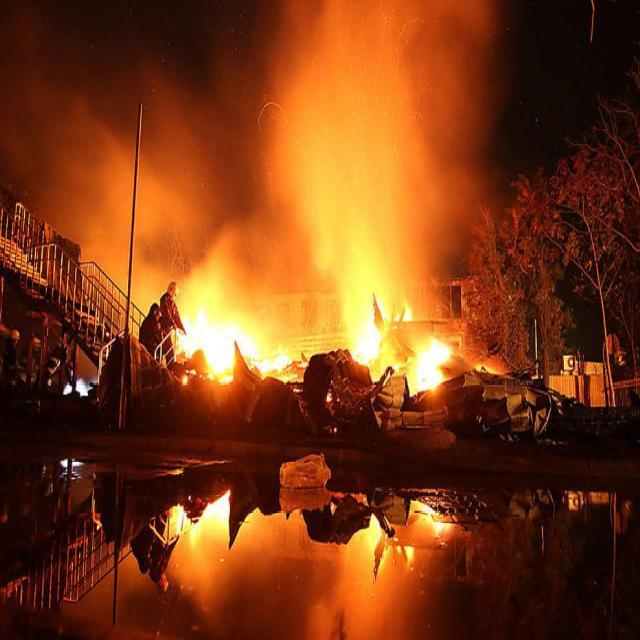Fire: (362, 281, 482, 402), (170, 306, 302, 396)
Smoke: (4, 0, 254, 284), (258, 0, 506, 278)
